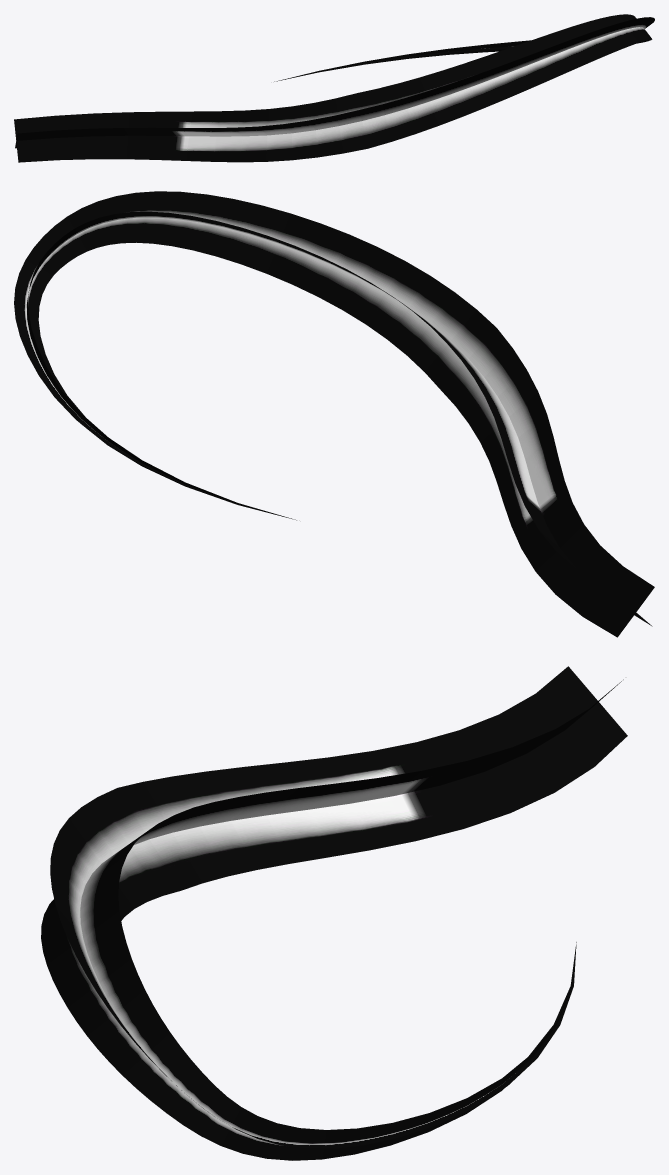
Rendered from TypeZero6.fbx.
3 views of the same model, one above another, from view 1: azimuth 30°, elevation 25°; view 2: azimuth 150°, elevation 25°; view 3: azimuth 270°, elevation 25° (orthographic). The views are drawn at different scales.
Visible parts, largest first — view 1: SM_WEP_Eff_D61NJ1_A_06.mo; view 2: SM_WEP_Eff_D61NJ1_A_06.mo; view 3: SM_WEP_Eff_D61NJ1_A_06.mo.
Boxes of the visible parts, <box> form: SM_WEP_Eff_D61NJ1_A_06.mo: <box>14,14,654,162</box>; SM_WEP_Eff_D61NJ1_A_06.mo: <box>14,191,654,637</box>; SM_WEP_Eff_D61NJ1_A_06.mo: <box>41,666,627,1160</box>.
Size of the model in its own units: 1030 by 204 by 480.
